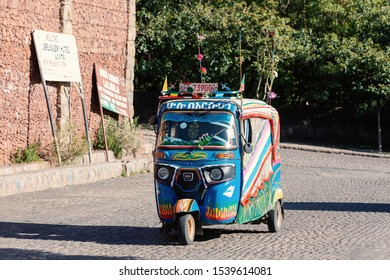threewheel: (148, 98, 282, 245)
